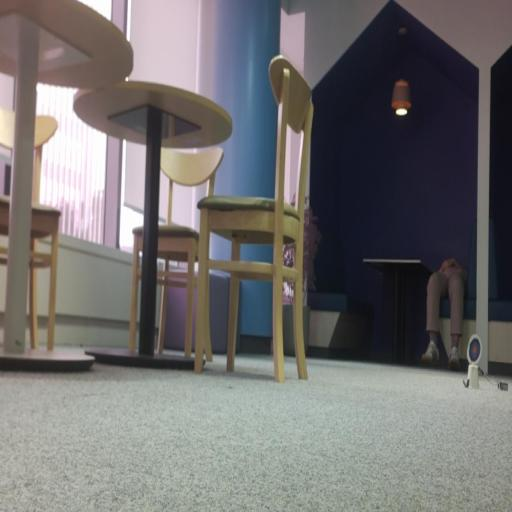target: (468, 335, 482, 363)
